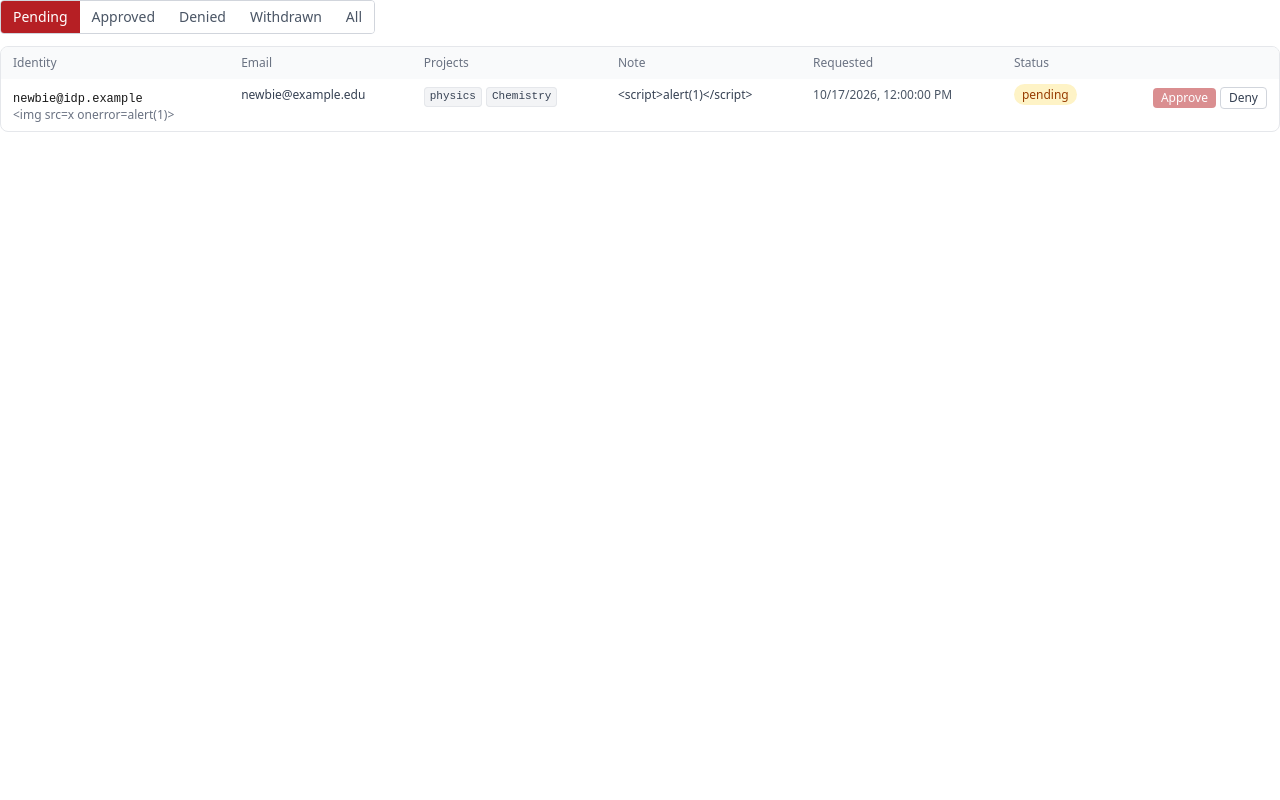
it: Requests › denies with a reason
Click the button "Deny": (1243,98) x1=1220 y1=87 x2=1267 y2=109
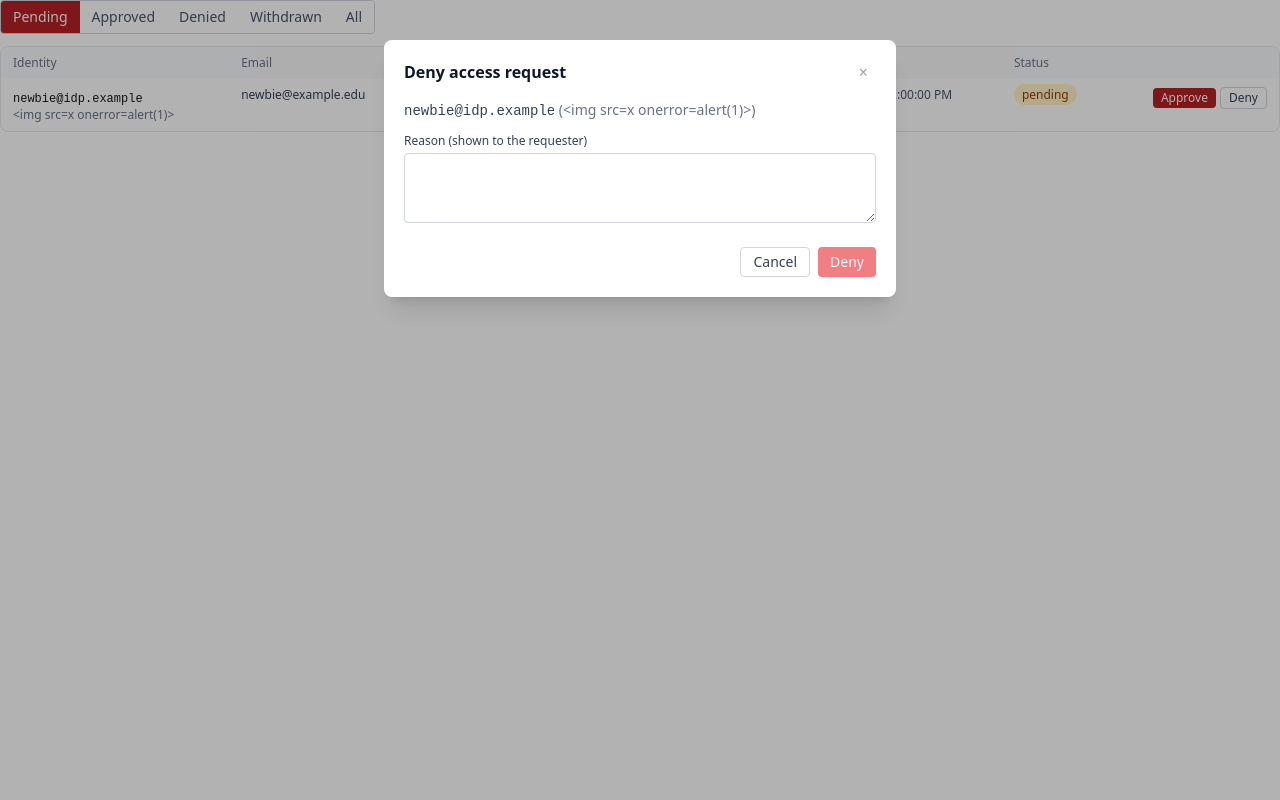
Now the button "Deny" is disabled, box x1=818 y1=247 x2=876 y2=277
In the text box labelled "Reason (shown to the requester)": (640,188) x1=404 y1=153 x2=876 y2=223, type "  Ask your PI.  "
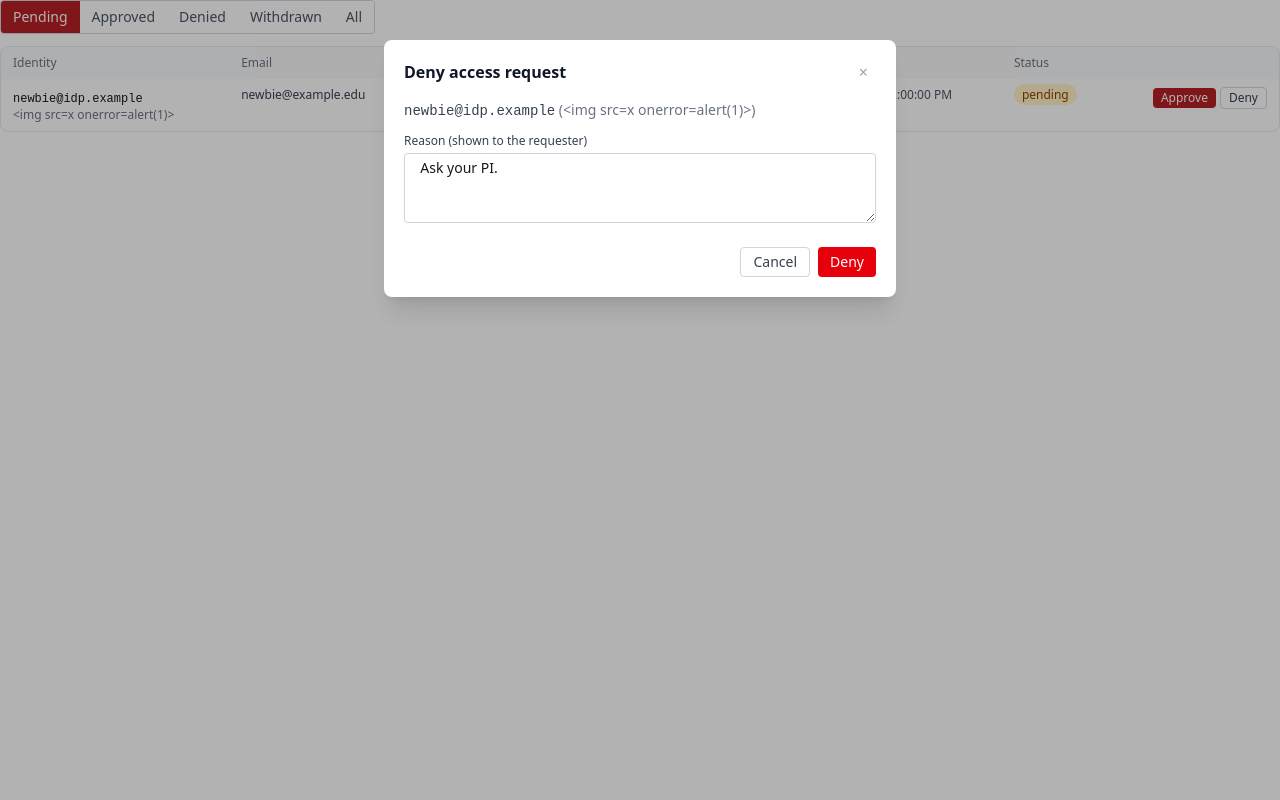
Click the button "Deny": (847,262) x1=818 y1=247 x2=876 y2=277
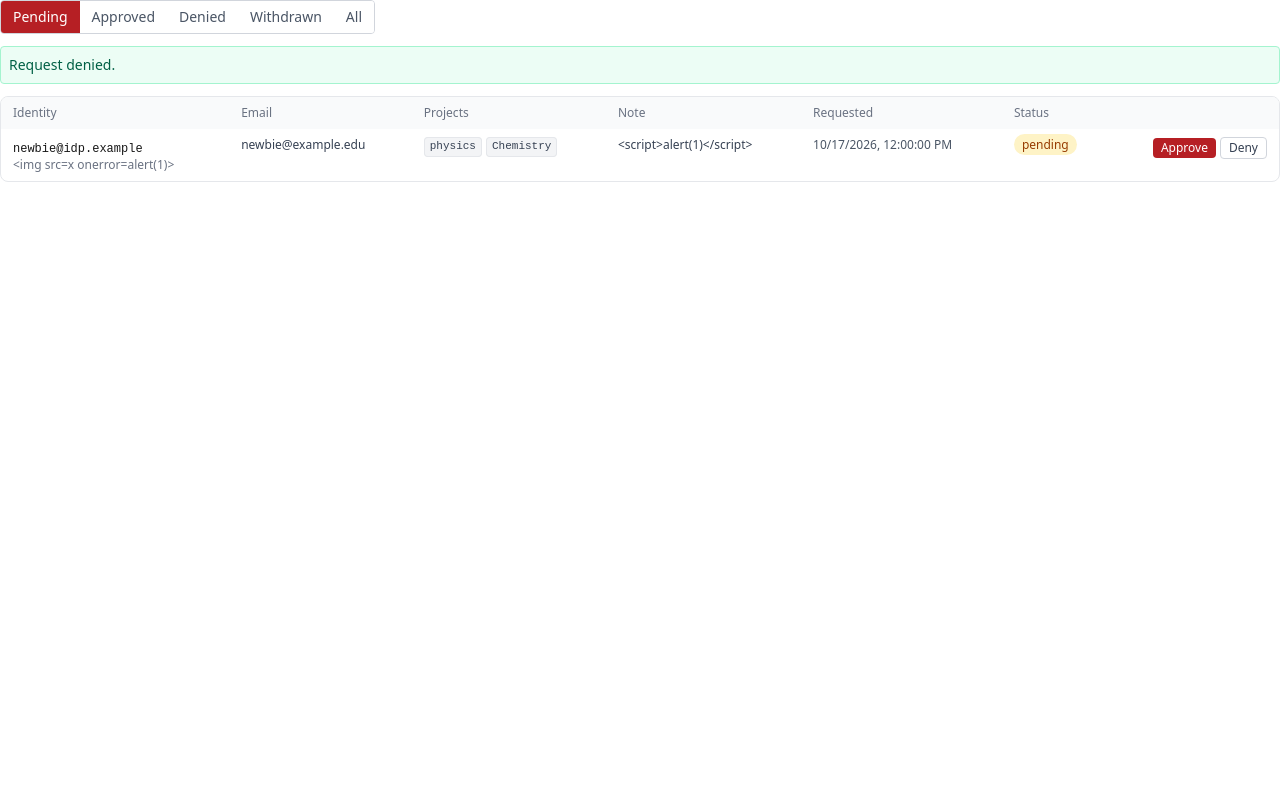
Now the text "Request denied." is shown, box x1=0 y1=46 x2=1279 y2=84
